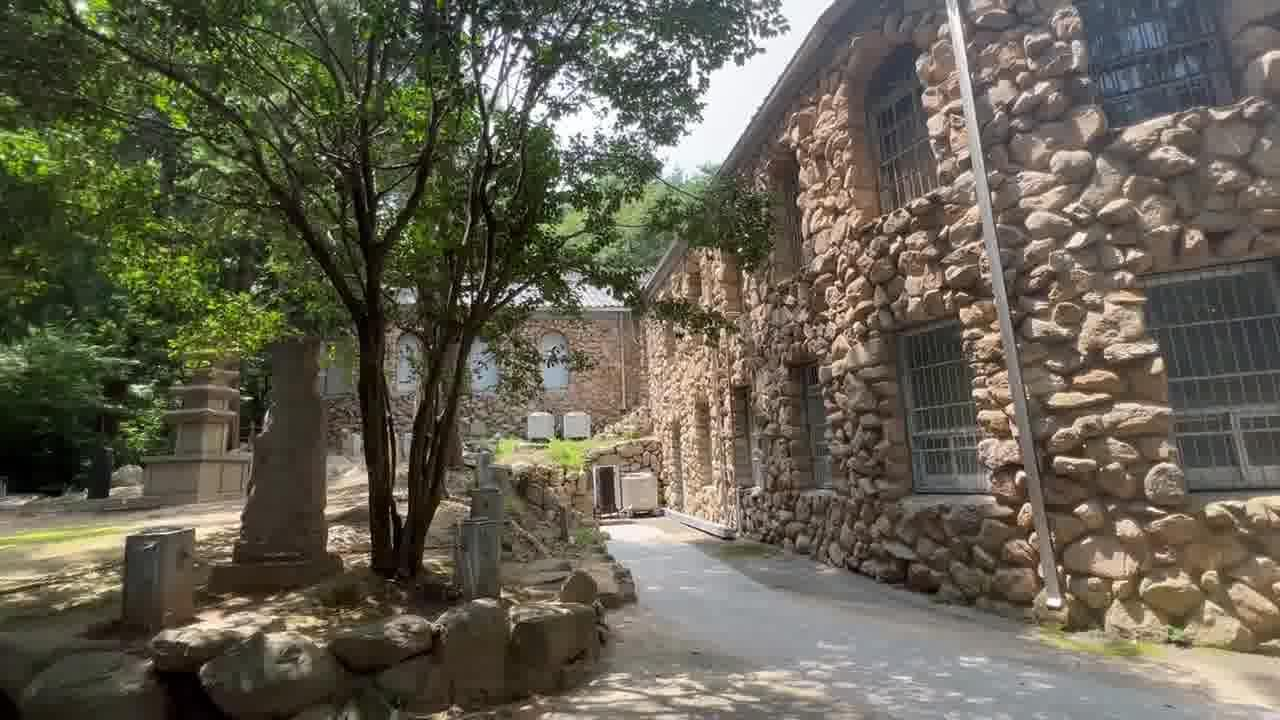building: (690, 38, 1280, 597)
